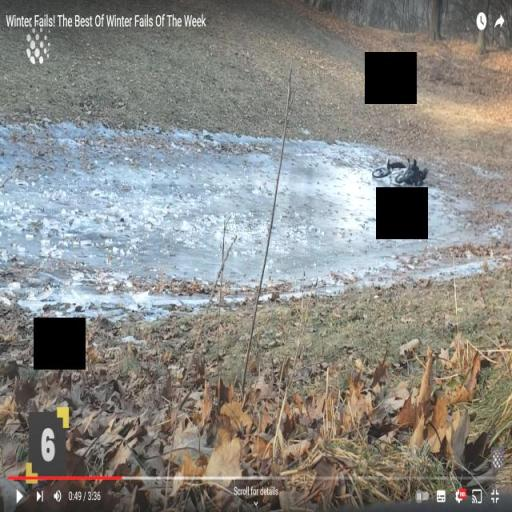Fall: (384, 148, 430, 190)
